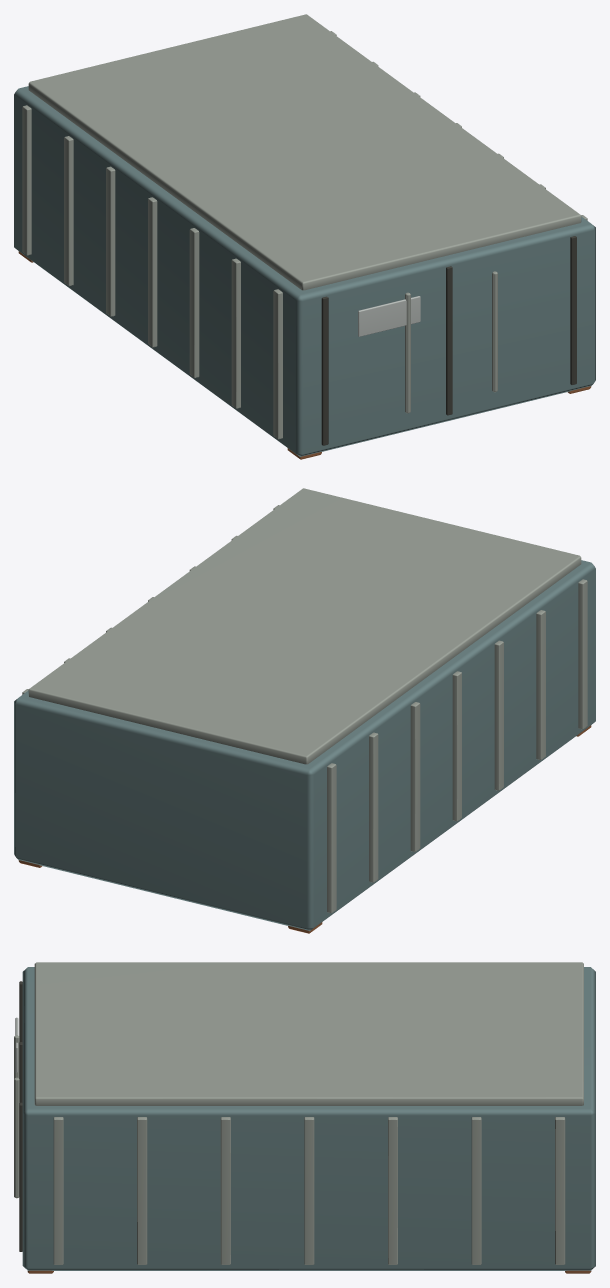
The model's file is QuarryContainerA.glb.
3 views of the same model, one above another, from view 1: azimuth 30°, elevation 25°; view 2: azimuth 150°, elevation 25°; view 3: azimuth 270°, elevation 25° (orthographic).
Parts seen in each view (by area): view 1: Freight container, Inset roof, Pressed side rib.004, Faded freight identity plate, Pressed side rib, Pressed side rib.002, Pressed side rib.006, Pressed side rib.008, Pressed side rib.010, Pressed side rib.012, Door vertical seam, Door vertical seam.001 (+3 smaller); view 2: Freight container, Inset roof, Pressed side rib.008, Pressed side rib, Pressed side rib.002, Pressed side rib.004, Pressed side rib.006, Pressed side rib.010, Pressed side rib.012; view 3: Freight container, Inset roof, Pressed side rib.007, Pressed side rib.011, Pressed side rib.001, Pressed side rib.003, Pressed side rib.005, Pressed side rib.013, Pressed side rib.009, Door locking bar.001, Door vertical seam.002.
Boxes of the visible parts, x1,y1,x2,y2 form: Freight container: (14,86,595,456); Inset roof: (28,14,581,290); Pressed side rib.004: (189,228,199,377); Faded freight identity plate: (358,296,420,336); Pressed side rib: (273,289,282,439); Pressed side rib.002: (231,258,240,408); Pressed side rib.006: (148,197,157,347); Pressed side rib.008: (106,166,115,316); Pressed side rib.010: (64,136,73,285); Pressed side rib.012: (22,105,31,255); Door vertical seam: (321,296,328,445); Door vertical seam.001: (446,266,452,415); Freight container: (14,560,595,930); Inset roof: (28,488,581,764); Pressed side rib.008: (410,702,420,851); Pressed side rib: (578,579,587,729); Pressed side rib.002: (536,610,545,759); Pressed side rib.004: (494,640,503,790); Pressed side rib.006: (452,671,461,821); Pressed side rib.010: (369,732,378,882); Pressed side rib.012: (327,763,336,913); Freight container: (22,967,595,1270); Inset roof: (34,962,583,1105); Pressed side rib.007: (304,1117,314,1264); Pressed side rib.011: (471,1117,481,1264); Pressed side rib.001: (53,1117,63,1264); Pressed side rib.003: (137,1117,147,1264); Pressed side rib.005: (220,1117,230,1264); Pressed side rib.013: (555,1117,565,1264); Pressed side rib.009: (388,1117,397,1264); Door locking bar.001: (14,1077,19,1198); Door vertical seam.002: (19,1102,22,1251).
Bounding box in the file's own units: 3 × 1.6 × 4.87.
